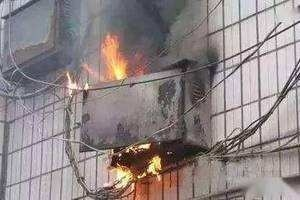fire: (61, 32, 149, 90), (103, 139, 164, 185)
